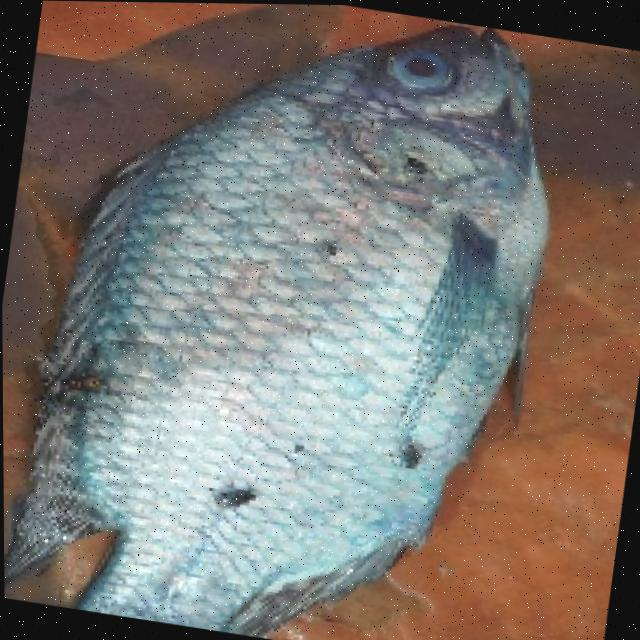Non-Fresh: (57, 71, 535, 568), (355, 24, 478, 111)
